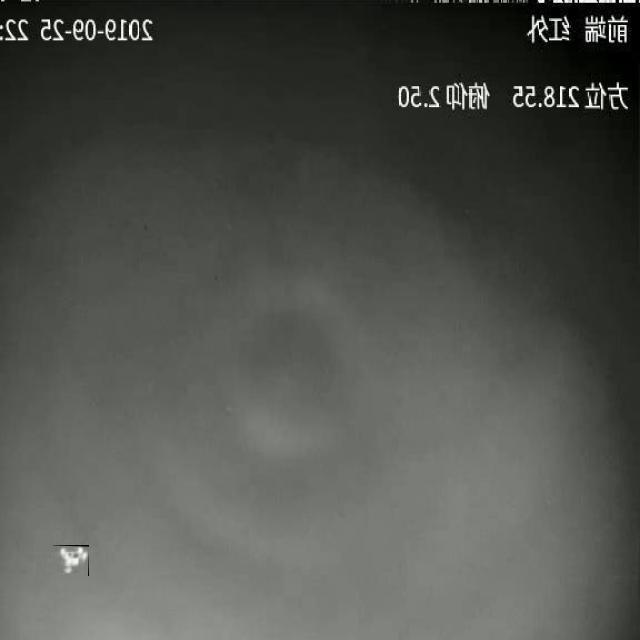drone: (53, 545, 89, 576)
